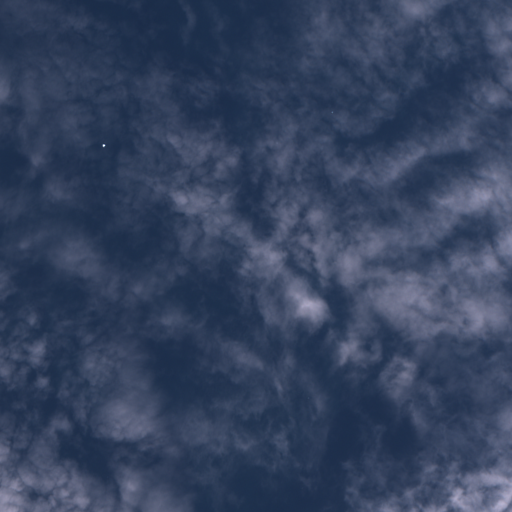Iceberg: (102, 144, 105, 147), (331, 111, 332, 112)
